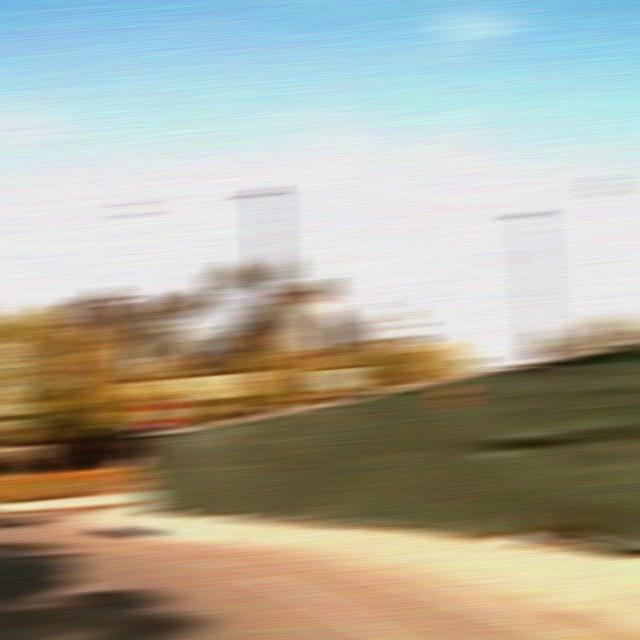stop_sign: (139, 399, 176, 430)
